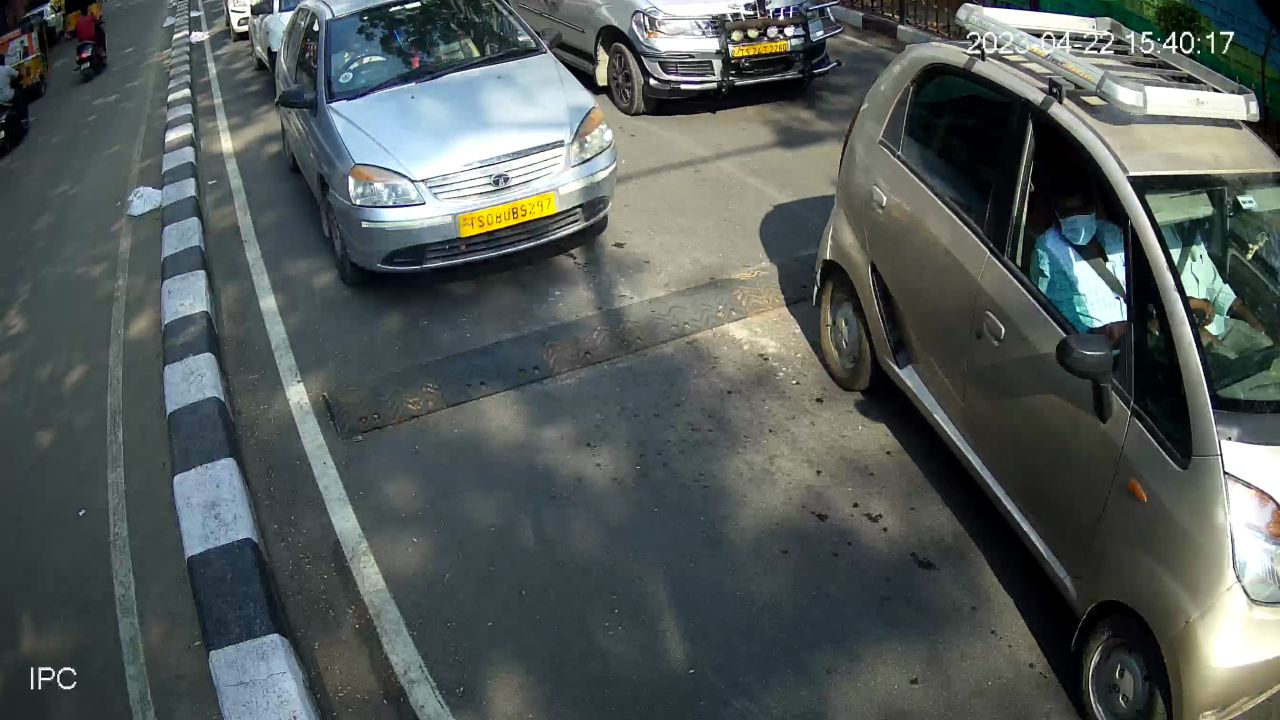license_plate: (453, 186, 566, 246), (729, 36, 792, 60)
